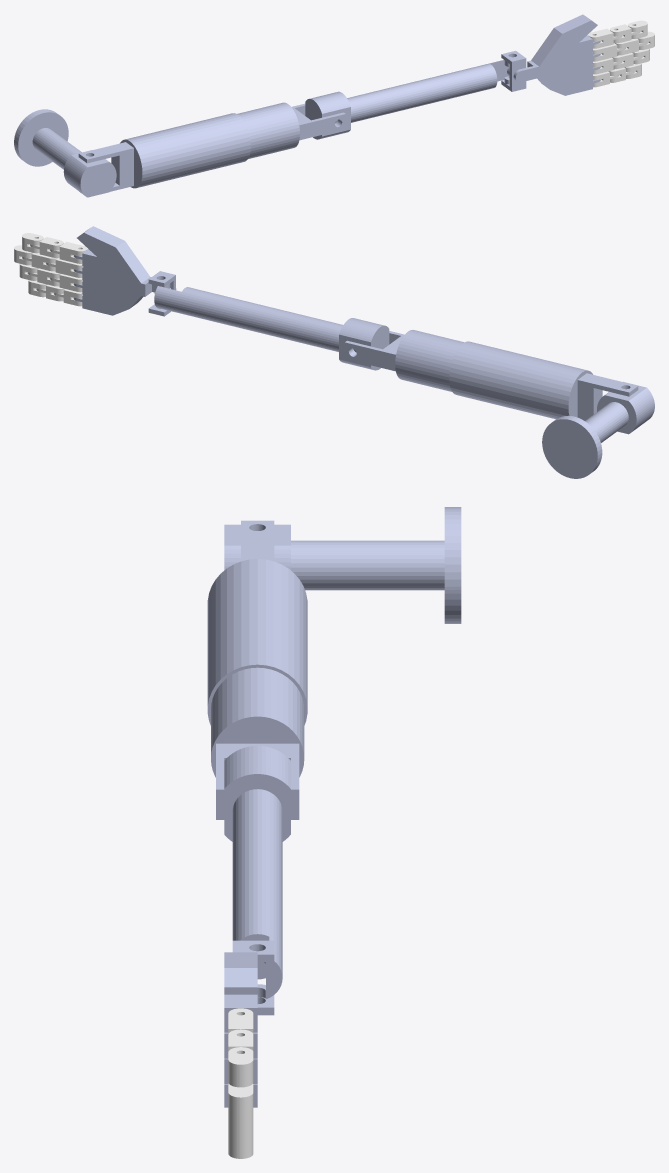
The model's file is x_arm.dae.
3 views of the same model, one above another, from view 1: azimuth 30°, elevation 25°; view 2: azimuth 150°, elevation 25°; view 3: azimuth 270°, elevation 25° (orthographic). The views are drawn at different scales.
Visible parts, largest first — view 1: link2, link7, link5, link3, base_link, link1, link4, link6, index0, middle0, index1, middle1 (+3 smaller); view 2: link2, link5, link7, link3, base_link, link4, link1, link6, index0, middle0, index1, middle1; view 3: link2, base_link, link5, link3, link4, link7, link1, link6, index2.
Part boxes in pixels (box(x1,y1,x2,y2)): link2: box(78, 113, 250, 192); link7: box(513, 14, 600, 95); link5: box(335, 60, 509, 123); link3: box(237, 102, 345, 158); base_link: box(14, 109, 81, 169); link1: box(63, 150, 116, 197); link4: box(305, 91, 350, 139); link6: box(501, 50, 526, 91); index0: box(588, 28, 622, 48); middle0: box(592, 43, 625, 61); index1: box(610, 24, 640, 43); middle1: box(615, 39, 647, 55); link2: box(449, 341, 638, 431); link5: box(154, 283, 356, 352); link7: box(73, 226, 176, 315); link3: box(344, 330, 463, 391); base_link: box(542, 402, 628, 478); link4: box(339, 318, 389, 370); link1: box(597, 382, 654, 434); link6: box(148, 271, 175, 316); index0: box(49, 241, 87, 263); middle0: box(45, 258, 83, 277); index1: box(30, 237, 63, 257); middle1: box(22, 253, 57, 271); link2: box(207, 520, 307, 725); base_link: box(291, 507, 461, 623); link5: box(232, 789, 282, 998); link3: box(211, 667, 304, 819); link4: box(224, 745, 290, 841); link7: box(224, 952, 257, 1107); link1: box(224, 524, 290, 570); link6: box(232, 940, 274, 1015); index2: box(228, 1047, 253, 1087).
Size of the model in its own units: 0.8094 by 0.1519 by 0.0913.
